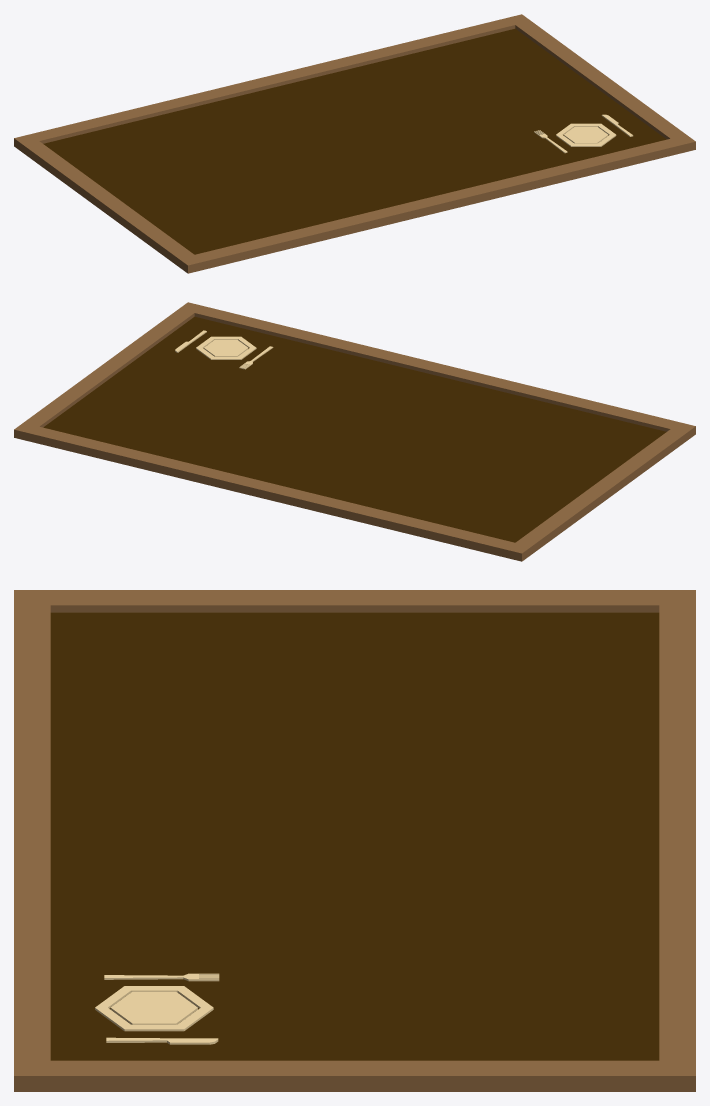
File: R_Carpet.fbx
3 renders of one model, top to bottom at view 1: azimuth 30°, elevation 25°; view 2: azimuth 150°, elevation 25°; view 3: azimuth 270°, elevation 25°, orthographic. The views are drawn at different scales.
Parts seen in each view (by area): view 1: R_Carpet; view 2: R_Carpet; view 3: R_Carpet.
Part boxes in pixels (x1,y1,x2,y2): R_Carpet: (14, 14, 695, 273); R_Carpet: (14, 302, 695, 561); R_Carpet: (14, 590, 695, 1091).
Size of the model in its own units: 1335 by 792 by 20.57.
